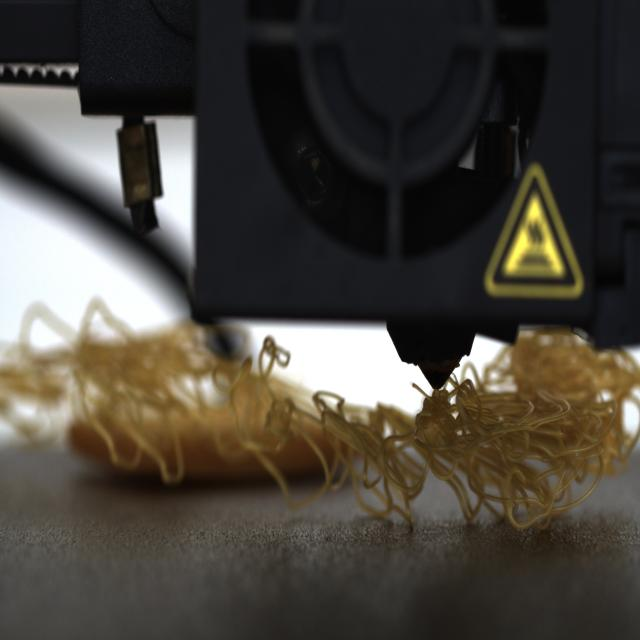Without deffect: (14, 283, 615, 557)
